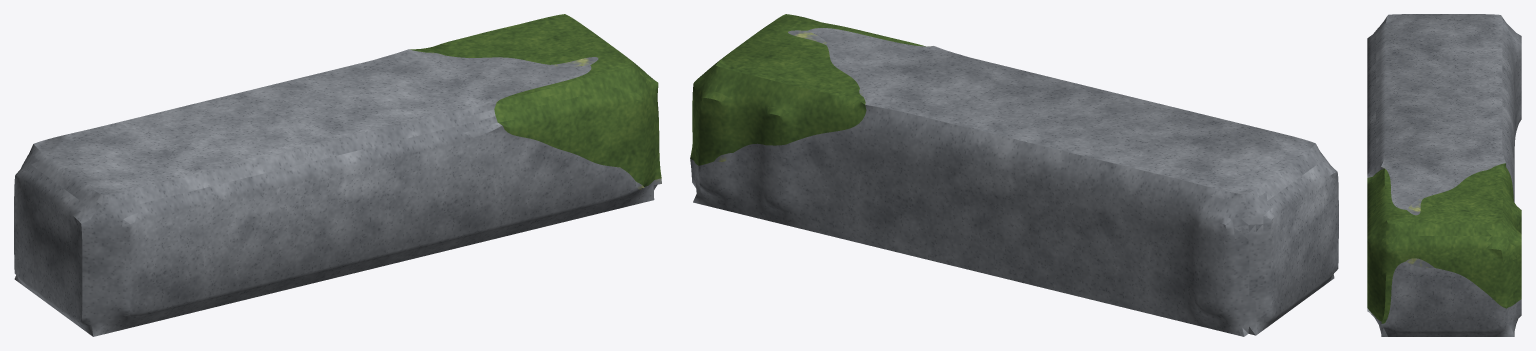
File: ruin_lintel_fallen.glb
3 renders of one model, left to right at view 1: azimuth 30°, elevation 25°; view 2: azimuth 150°, elevation 25°; view 3: azimuth 270°, elevation 25°, orthographic. The views are drawn at different scales.
Parts seen in each view (by area): view 1: wilds_ruins_ruin_lintel_fallen; view 2: wilds_ruins_ruin_lintel_fallen; view 3: wilds_ruins_ruin_lintel_fallen.
Part boxes in pixels (bbox=[...]): wilds_ruins_ruin_lintel_fallen: bbox=[14, 14, 661, 336]; wilds_ruins_ruin_lintel_fallen: bbox=[690, 14, 1338, 336]; wilds_ruins_ruin_lintel_fallen: bbox=[1367, 14, 1521, 336].
Size of the model in its own units: 1.98 by 0.4427 by 0.5729.
Materials: 3 (3 with a texture image).
